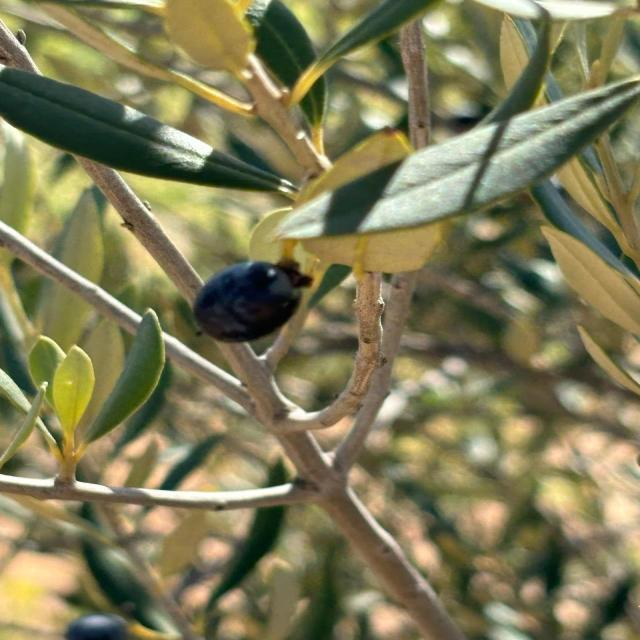Healthy: (0, 66, 296, 204), (85, 309, 165, 446), (193, 260, 312, 343)
